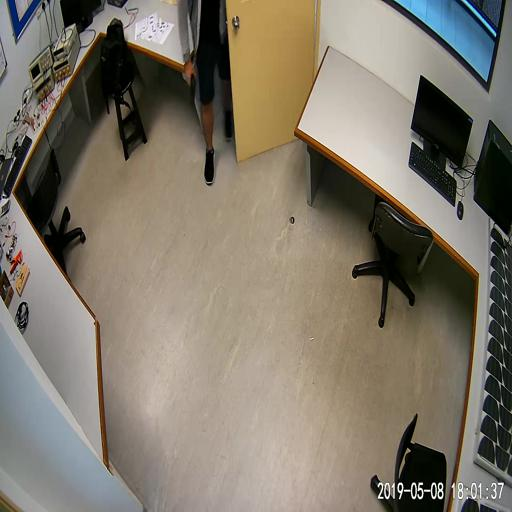pistol: (186, 72, 196, 105)
